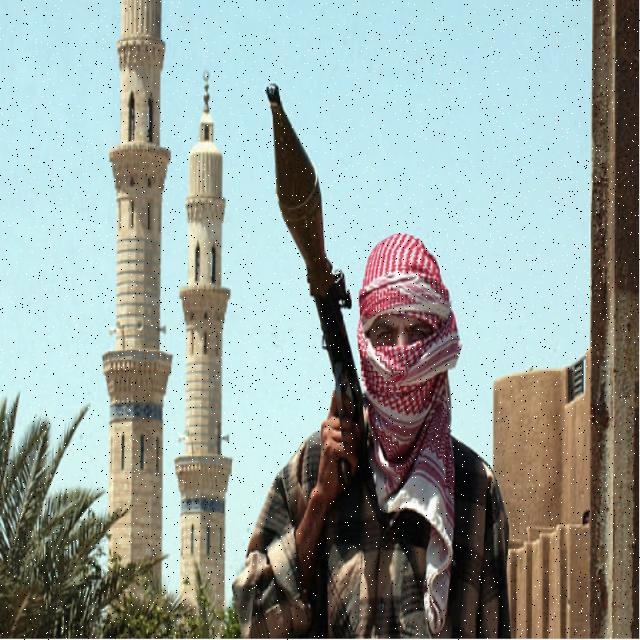bazooka: (262, 76, 393, 563)
